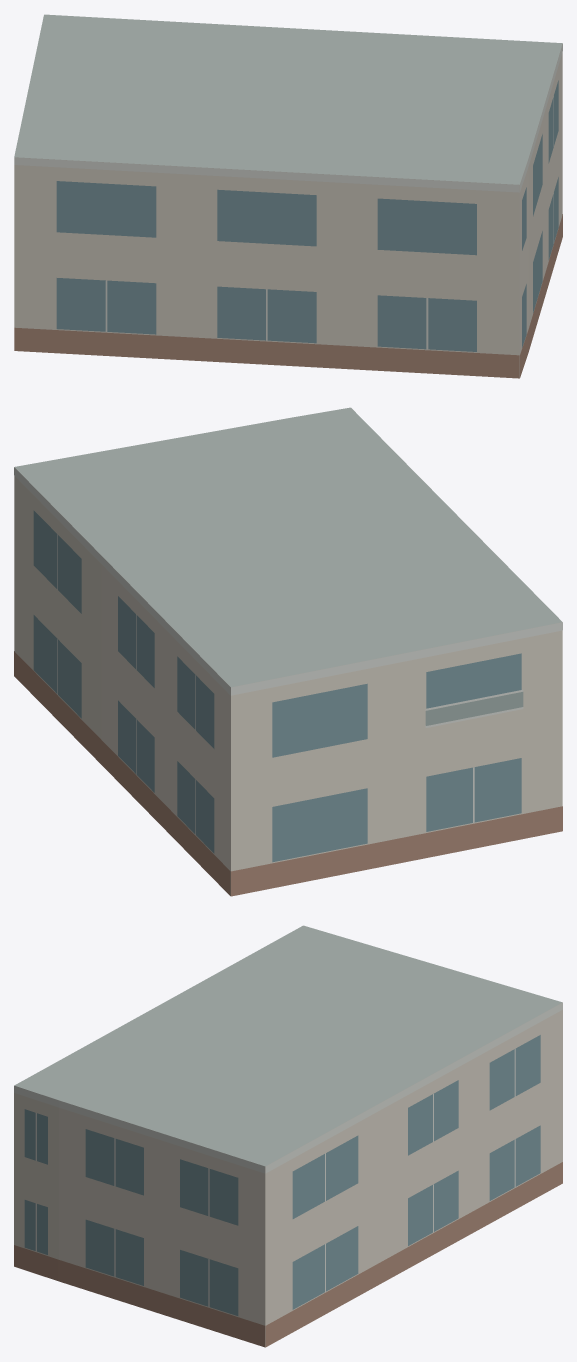
Rendered from survey-upis-32809372.glb.
The picture shows the model from 3 angles, top to bottom: view 1: azimuth 30°, elevation 25°; view 2: azimuth 150°, elevation 25°; view 3: azimuth 270°, elevation 25°; orthographic projection. The views are drawn at different scales.
Visible parts, largest first — view 1: survey-upis-32809372.tmp; view 2: survey-upis-32809372.tmp; view 3: survey-upis-32809372.tmp.
Boxes of the visible parts, <box> form: survey-upis-32809372.tmp: <box>14,14,562,378</box>; survey-upis-32809372.tmp: <box>14,407,562,896</box>; survey-upis-32809372.tmp: <box>14,925,562,1347</box>.
Bounding box in the file's own units: 17.43 × 6.1 × 16.77.
